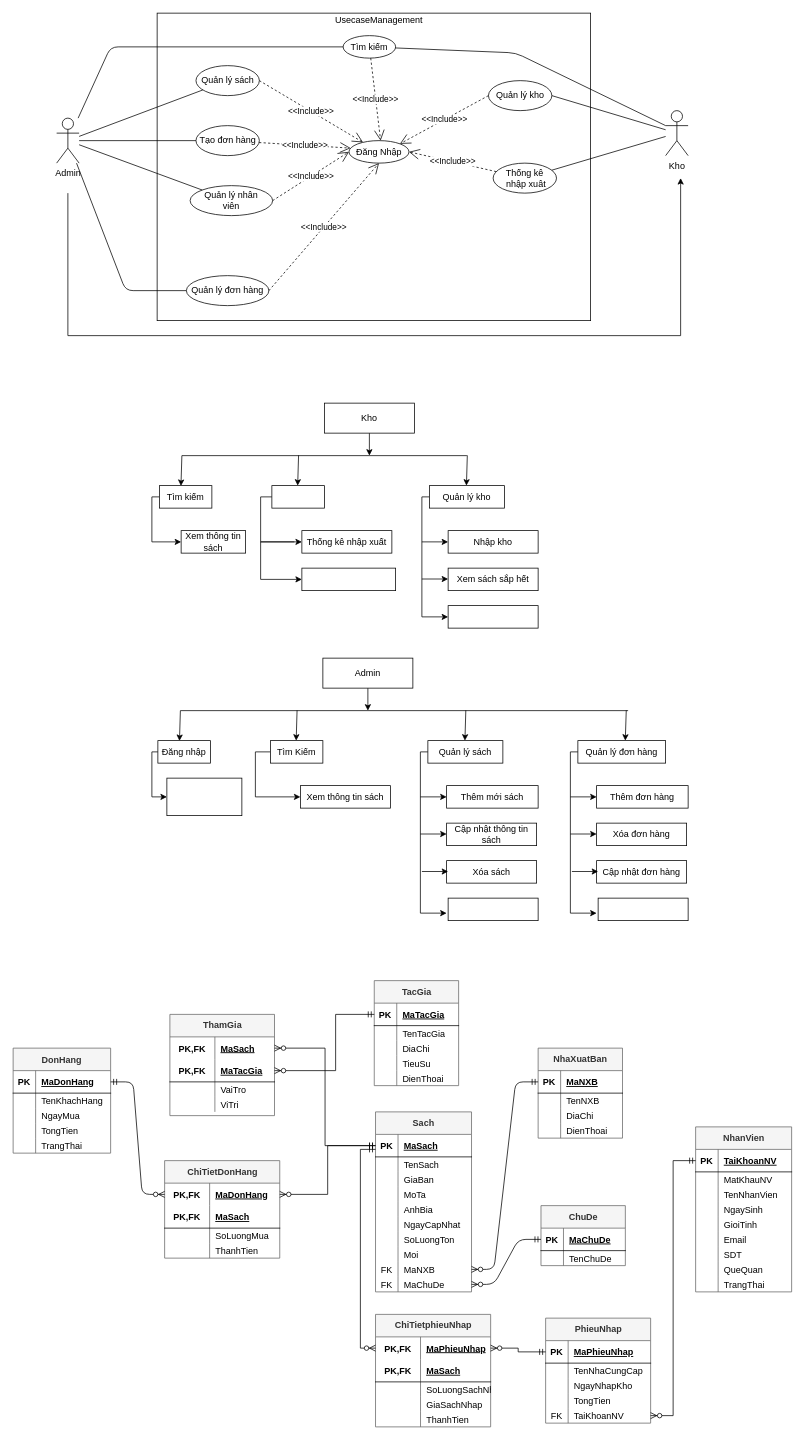
Some shapes in this 805 by 1440 pixel diagram are drawn without their labels. The centre of each missing label's shape, as x and y in pixels:
"Báo cáo doanh thu" belongs at (x=348, y=579).
"Cập Nhật Thông Tin Cá Nhân" belongs at (x=204, y=796).
"quản lý nhập kho" belongs at (x=492, y=616).
"Thống kê" belongs at (x=297, y=496).
"Xem chi tiết sách" belongs at (x=492, y=909).
"xem chi tiết đơn hàng" belongs at (x=642, y=909).
